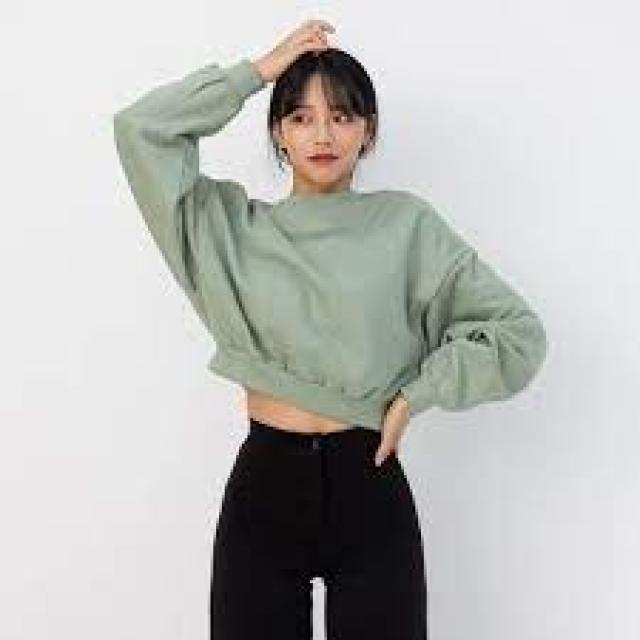sweater: (108, 55, 551, 434)
trousers: (208, 418, 430, 640)
